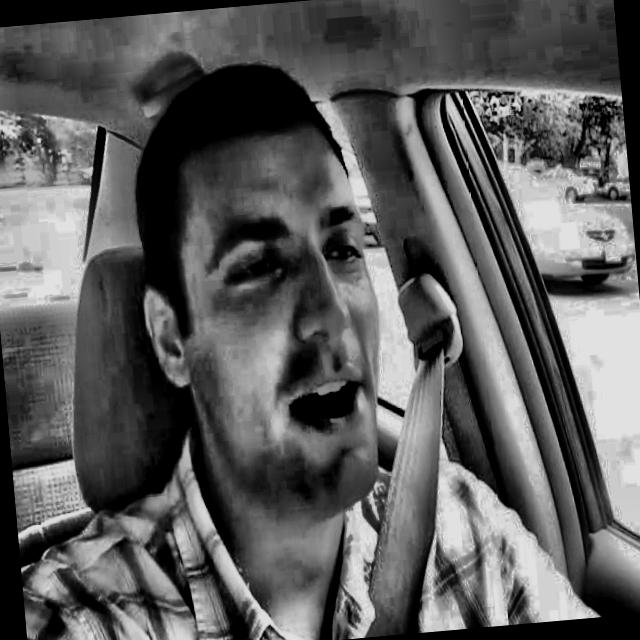open_mouth: (272, 359, 394, 451)
